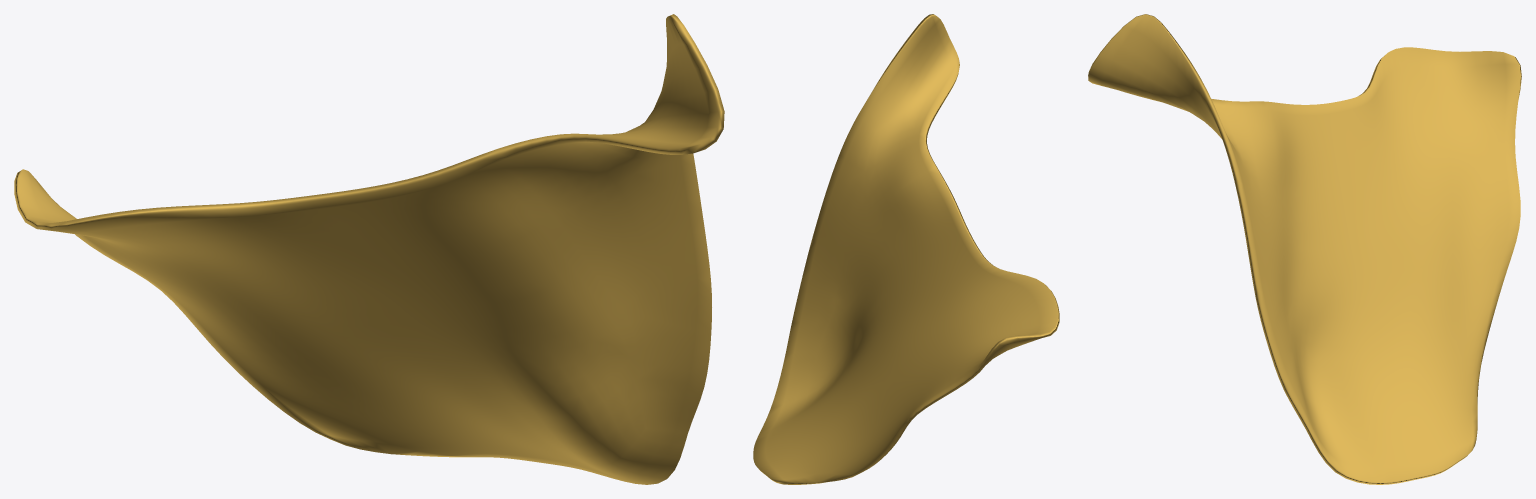
The picture shows the model from 3 angles, left to right: view 1: azimuth 30°, elevation 25°; view 2: azimuth 150°, elevation 25°; view 3: azimuth 270°, elevation 25°; orthographic projection. The views are drawn at different scales.
Parts seen in each view (by area): view 1: 小网膜; view 2: 小网膜; view 3: 小网膜.
Boxes of the visible parts, box(x1,y1,x2,y2) form: 小网膜: box(14, 14, 724, 484); 小网膜: box(753, 14, 1059, 484); 小网膜: box(1088, 14, 1521, 484).
Size of the model in its own units: 0.0884 by 0.0943 by 0.0856.
